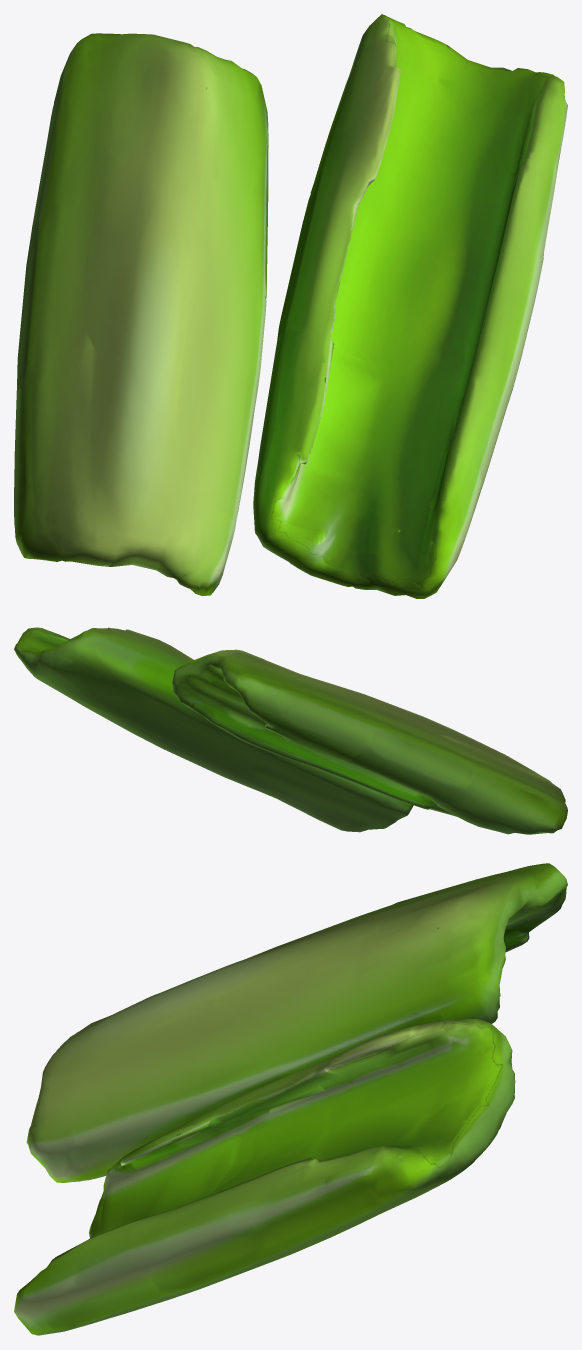
File: veg02.glb
The picture shows the model from 3 angles, top to bottom: view 1: azimuth 30°, elevation 25°; view 2: azimuth 150°, elevation 25°; view 3: azimuth 270°, elevation 25°; orthographic projection. The views are drawn at different scales.
Visible parts, largest first — view 1: veg02_low; view 2: veg02_low; view 3: veg02_low.
Boxes of the visible parts, <box> form: veg02_low: <box>14,14,567,598</box>; veg02_low: <box>14,627,567,834</box>; veg02_low: <box>14,863,567,1335</box>.
Bounding box in the file's own units: 1.02 × 0.5972 × 0.7043.
Materials: 1 (1 with a texture image).
